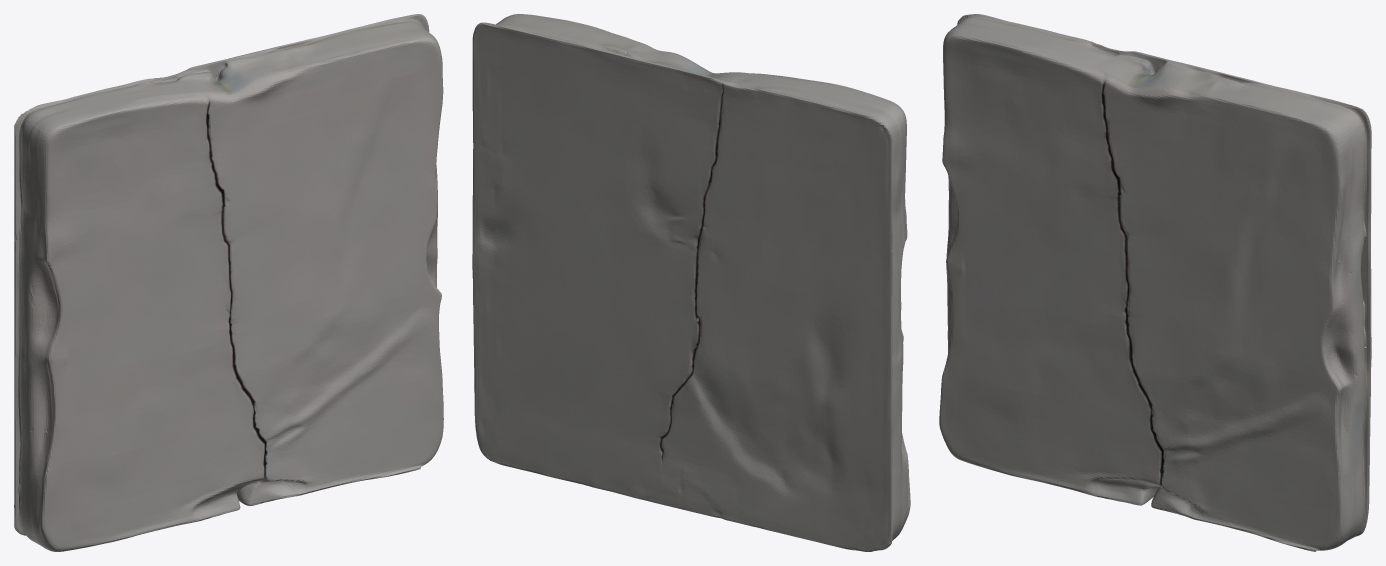
File: floor.glb
3 renders of one model, left to right at view 1: azimuth 30°, elevation 25°; view 2: azimuth 150°, elevation 25°; view 3: azimuth 330°, elevation 25°, orthographic.
Visible parts, largest first — view 1: textured_mesh.obj; view 2: textured_mesh.obj; view 3: textured_mesh.obj.
Part boxes in pixels (x1,y1,x2,y2): textured_mesh.obj: [14, 14, 443, 551]; textured_mesh.obj: [472, 14, 910, 551]; textured_mesh.obj: [939, 14, 1371, 551].
Bounding box in the file's own units: 1.99 × 1.99 × 0.2182.
Materials: 1 (1 with a texture image).
